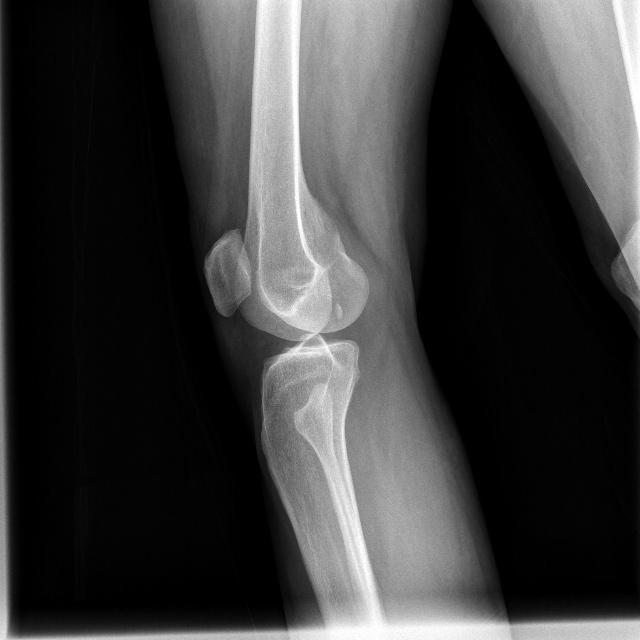Knee: (200, 223, 369, 411)
